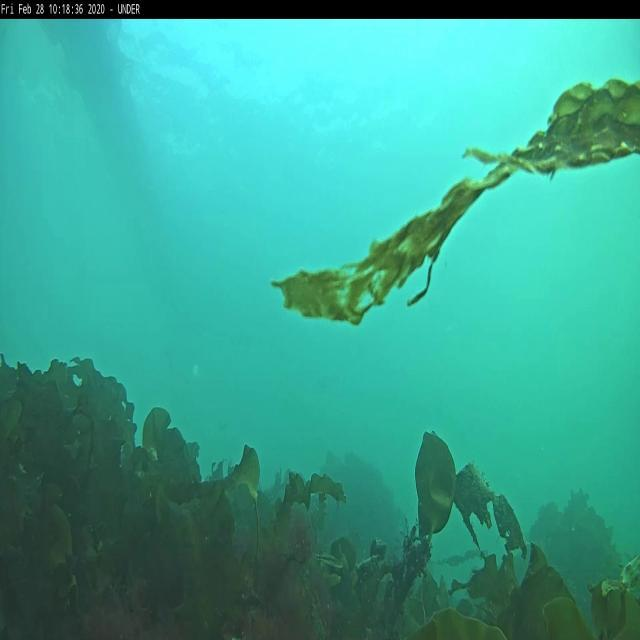fish: (320, 552, 342, 570)
